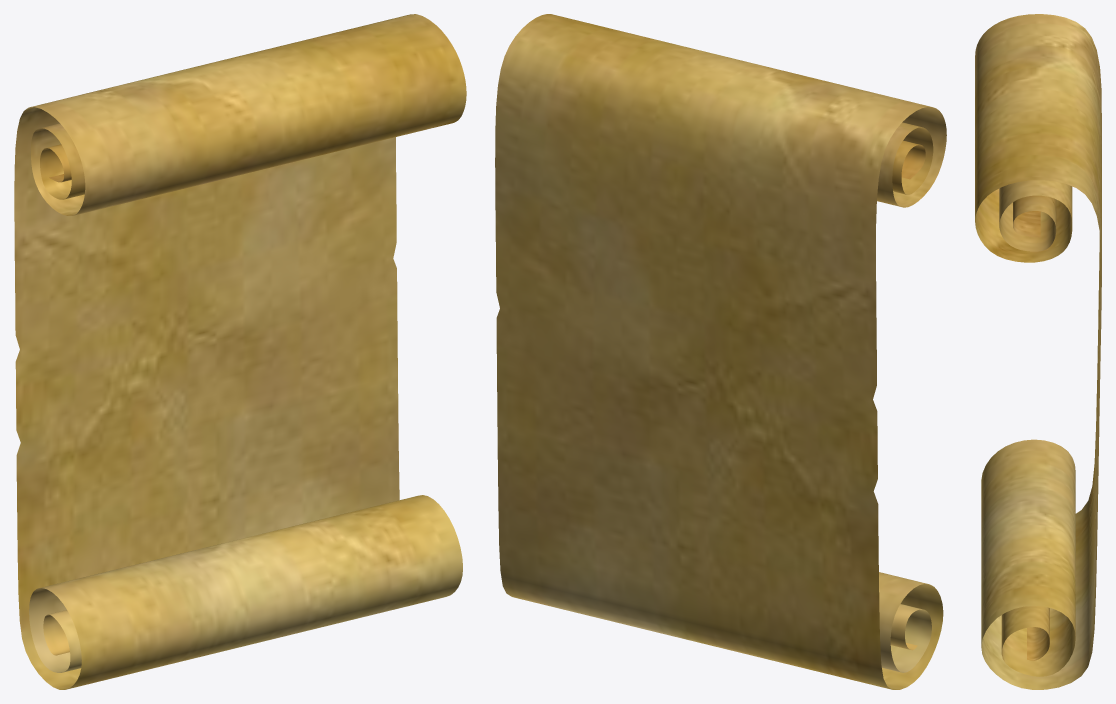
File: scroll.FBX
3 renders of one model, left to right at view 1: azimuth 30°, elevation 25°; view 2: azimuth 150°, elevation 25°; view 3: azimuth 270°, elevation 25°, orthographic. The views are drawn at different scales.
Parts seen in each view (by area): view 1: Models_Scroll; view 2: Models_Scroll; view 3: Models_Scroll.
Boxes of the visible parts, <box> form: Models_Scroll: <box>14,14,466,689</box>; Models_Scroll: <box>495,14,946,689</box>; Models_Scroll: <box>975,14,1101,689</box>.
Bounding box in the file's own units: 0.2727 × 0.39 × 0.0879.
Materials: 1 (1 with a texture image).
